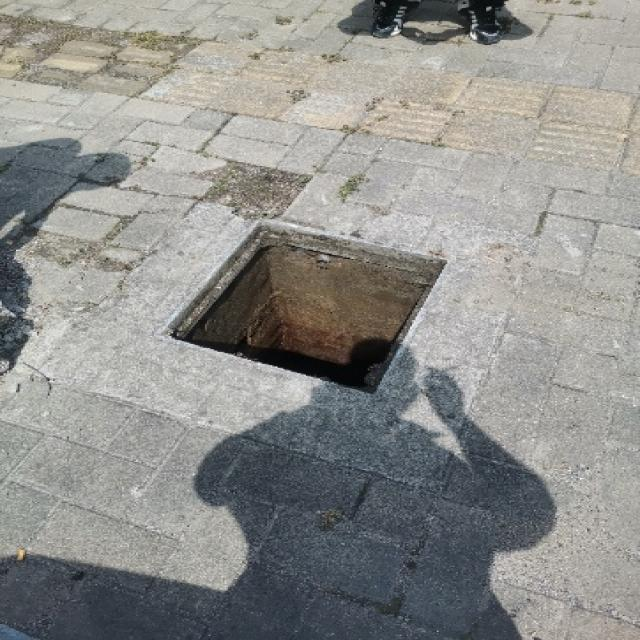Uncovered: (154, 212, 458, 423)
